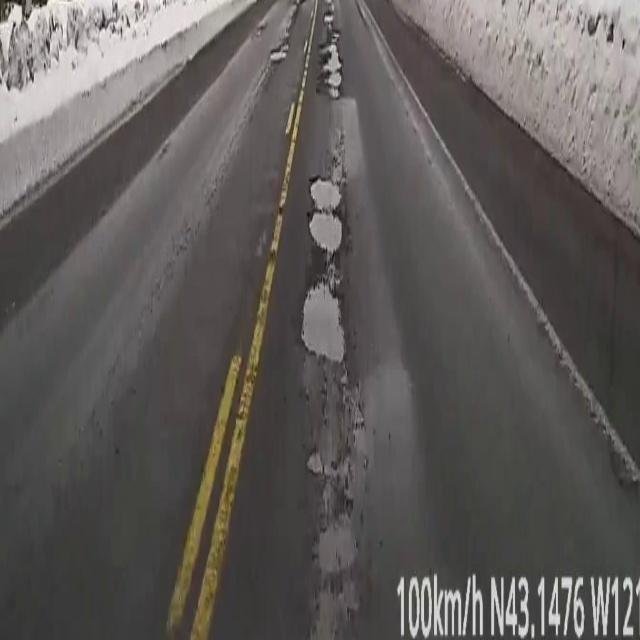pothole: (304, 444, 369, 640), (302, 280, 345, 358), (309, 176, 341, 260), (322, 0, 342, 97), (270, 44, 288, 64)
